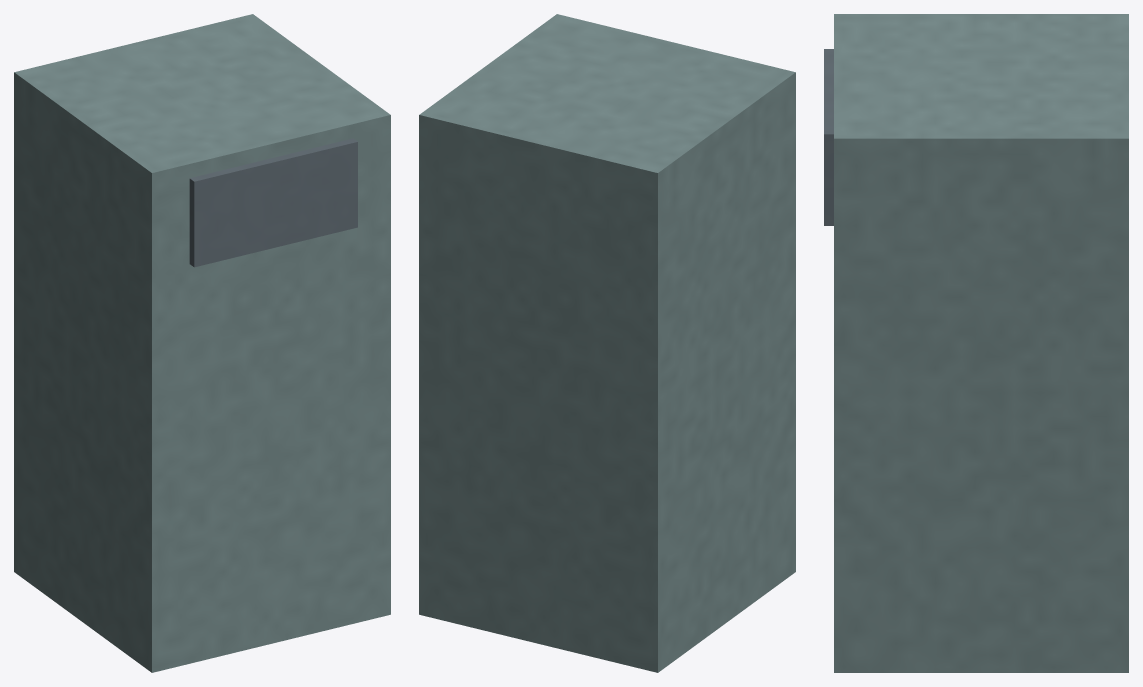
File: city-bin.glb
3 views of the same model, side by side, from view 1: azimuth 30°, elevation 25°; view 2: azimuth 150°, elevation 25°; view 3: azimuth 270°, elevation 25° (orthographic). The views are drawn at different scales.
Size of the model in its own units: 0.35 by 0.7 by 0.362.
2 materials, 2 textured.
